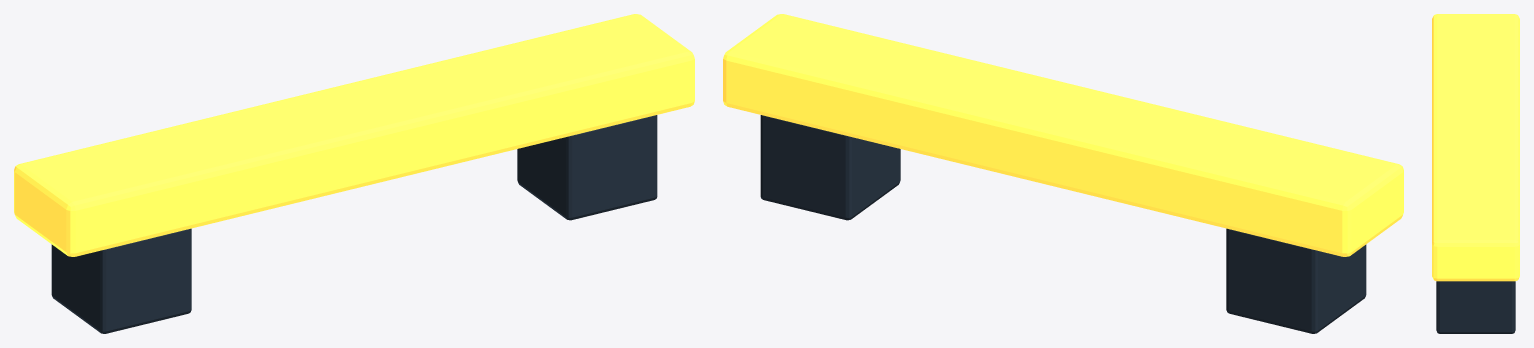
File: rebar-gantry-hoist-v4-high.glb
The picture shows the model from 3 angles, left to right: view 1: azimuth 30°, elevation 25°; view 2: azimuth 150°, elevation 25°; view 3: azimuth 270°, elevation 25°; orthographic projection. The views are drawn at different scales.
Parts seen in each view (by area): view 1: cr-hoist-beam.001, cr-hoist-block-l.001, cr-hoist-block-r.001; view 2: cr-hoist-beam.001, cr-hoist-block-l.001, cr-hoist-block-r.001; view 3: cr-hoist-beam.001, cr-hoist-block-r.001.
Boxes of the visible parts, <box> form: cr-hoist-beam.001: <box>14,14,694,256</box>; cr-hoist-block-l.001: <box>51,228,191,333</box>; cr-hoist-block-r.001: <box>517,115,657,220</box>; cr-hoist-beam.001: <box>723,14,1403,256</box>; cr-hoist-block-l.001: <box>1226,228,1366,333</box>; cr-hoist-block-r.001: <box>760,115,900,220</box>; cr-hoist-beam.001: <box>1432,14,1519,281</box>; cr-hoist-block-r.001: <box>1436,281,1515,333</box>.
Bounding box in the file's own units: 6.2 × 1.34 × 1.
